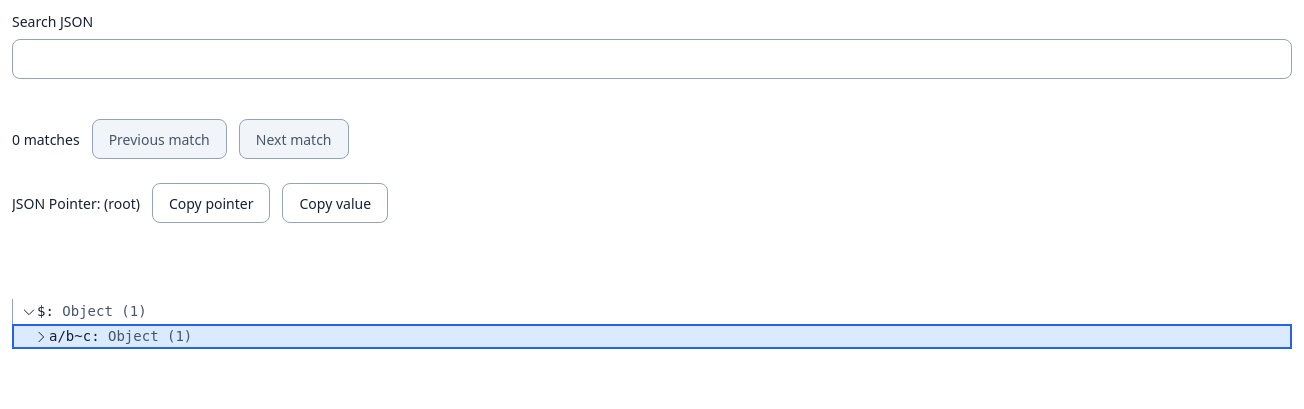
Test: JsonTree › escapes pointers and supports keyboard expansion, parent navigation and clipboard fallback
This screenshot has width=1304, height=409.
Press ArrowRight in the list item "a/b~c: Object (1)", box left=12, top=324, right=1292, bottom=349
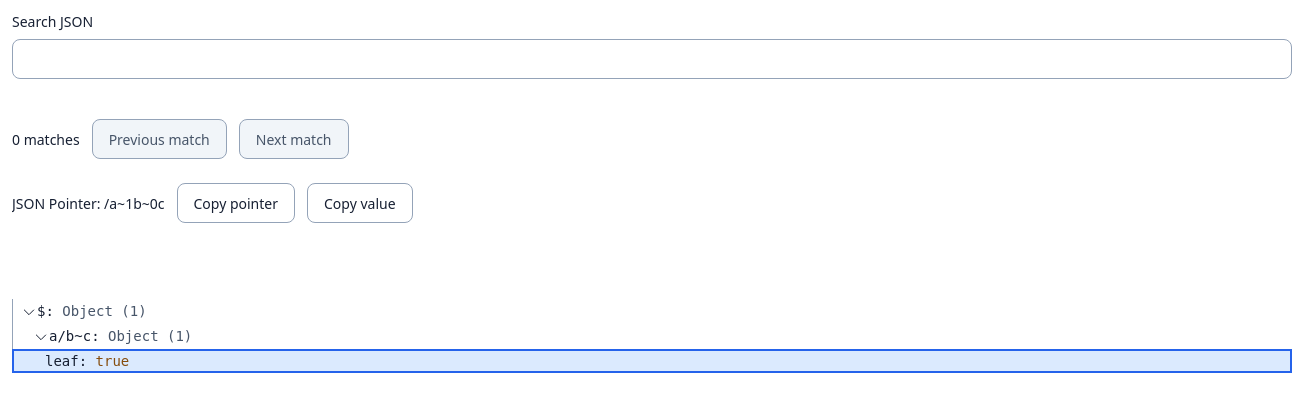
Check: the list item "leaf: true" is shown
Press ArrowLeft in the list item "leaf: true", box left=12, top=349, right=1292, bottom=373
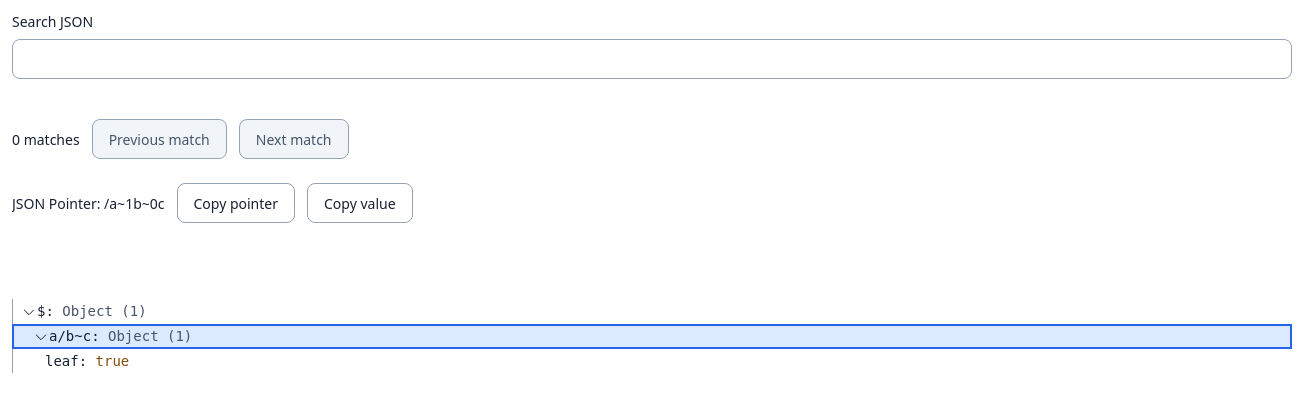
Click the button "Copy pointer" at (236, 203), box left=176, top=183, right=295, bottom=223
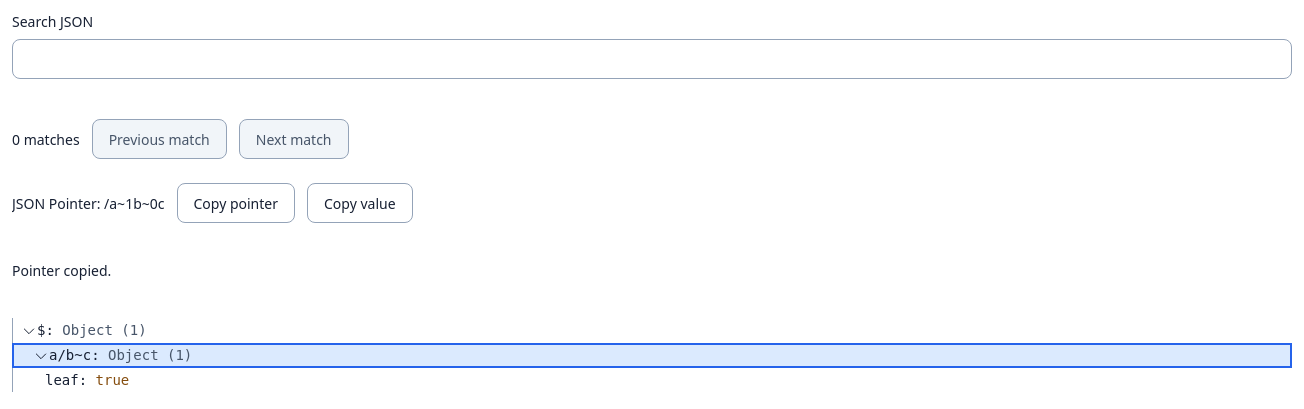
Check: the text "Pointer copied." is shown, box left=12, top=261, right=111, bottom=280
